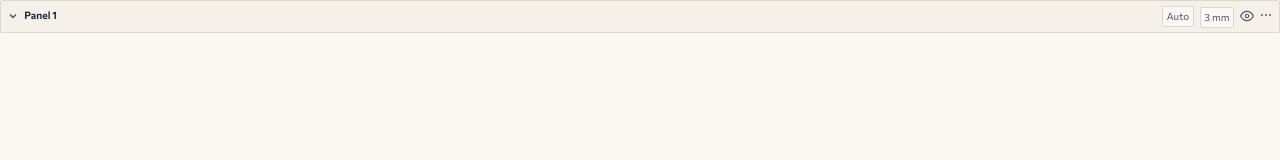
Scenario: PanelHeader — thickness chip + in/mm dropdown › the mm tab shows a float input (seeded from the panel) committed on Enter
Click the button with aria-label "Panel thickness": (1217, 18) left=1200, top=7, right=1234, bottom=28
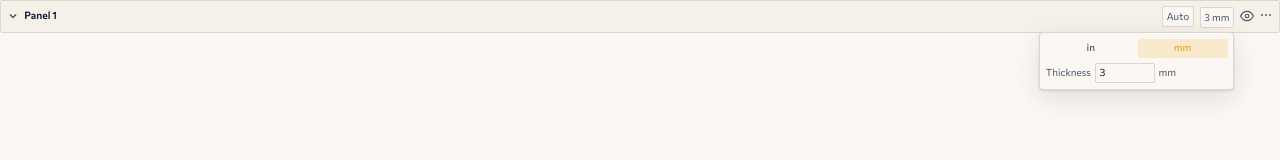
expect the number field named "Thickness in millimeters" holds "3": met
Replace the text in the number field named "Thickness in millimeters" with "5.5": (1125, 73) left=1095, top=63, right=1155, bottom=83
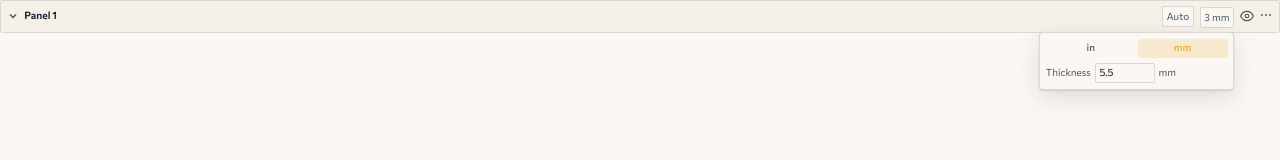
Press Enter in the number field named "Thickness in millimeters", box left=1095, top=63, right=1155, bottom=83
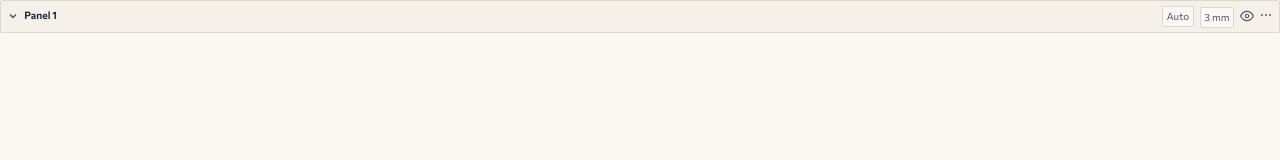
expect the element with test id "panel-thickness-popover" is gone: met
